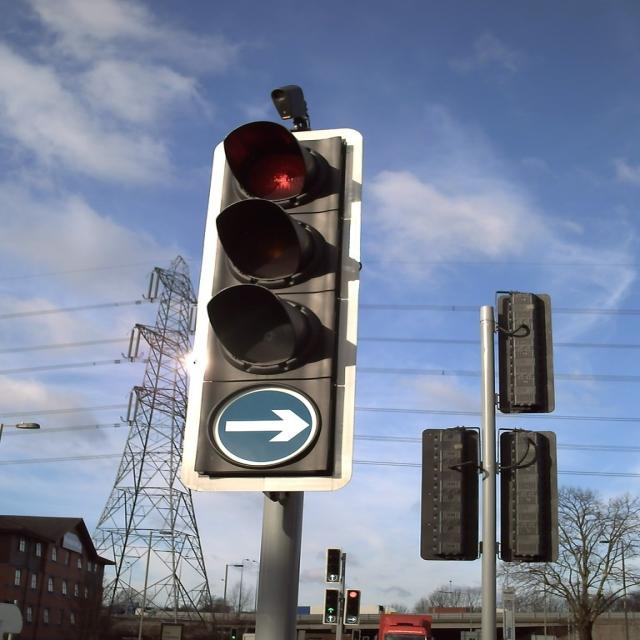Construction: (178, 119, 364, 493)
Straight: (205, 382, 322, 469)
